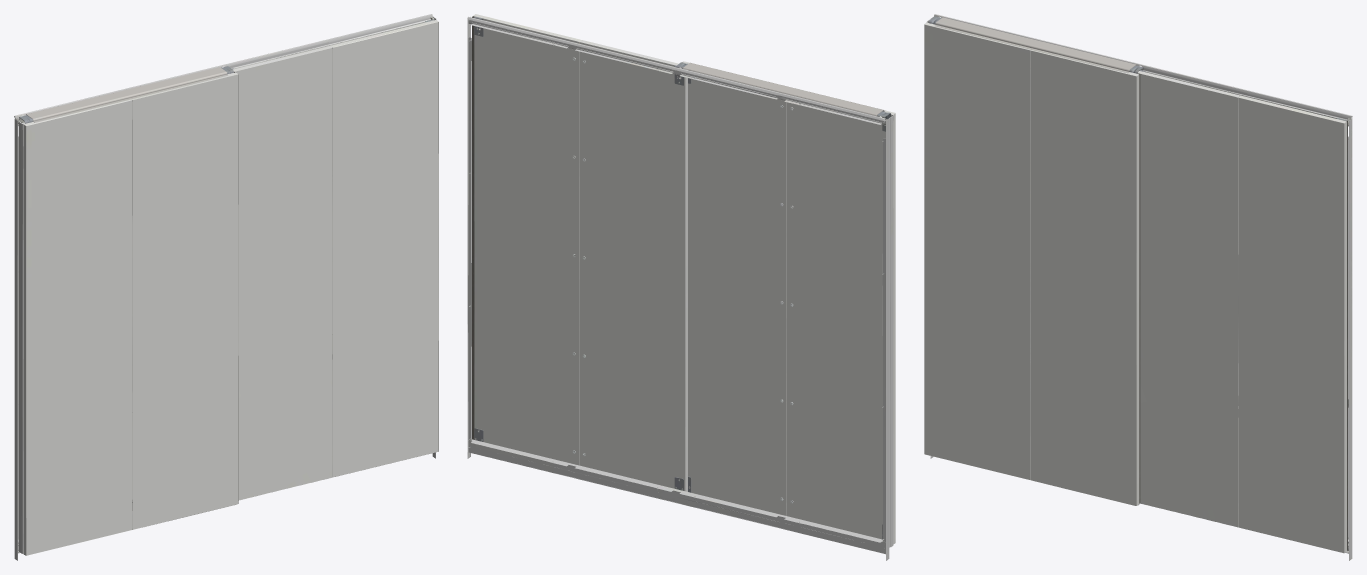
The model's file is 27 - HASVIK - 滑門組, 白色, 200x201 公分 IKEA 線上購物.glb.
The picture shows the model from 3 angles, left to right: view 1: azimuth 30°, elevation 25°; view 2: azimuth 150°, elevation 25°; view 3: azimuth 330°, elevation 25°; orthographic projection.
Parts seen in each view (by area): view 1: 70521539; view 2: 70521539; view 3: 70521539.
Boxes of the visible parts, x1,y1,x2,y2 form: 70521539: (14,14,438,560); 70521539: (467,14,895,560); 70521539: (924,14,1352,560).
Bounding box in the file's own units: 2 × 2.02 × 0.1024.
1 material, 1 textured.
